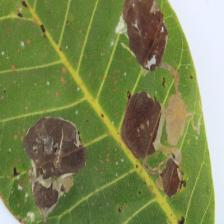leaf miner: (110, 88, 195, 203), (15, 107, 100, 222), (121, 0, 174, 80)
